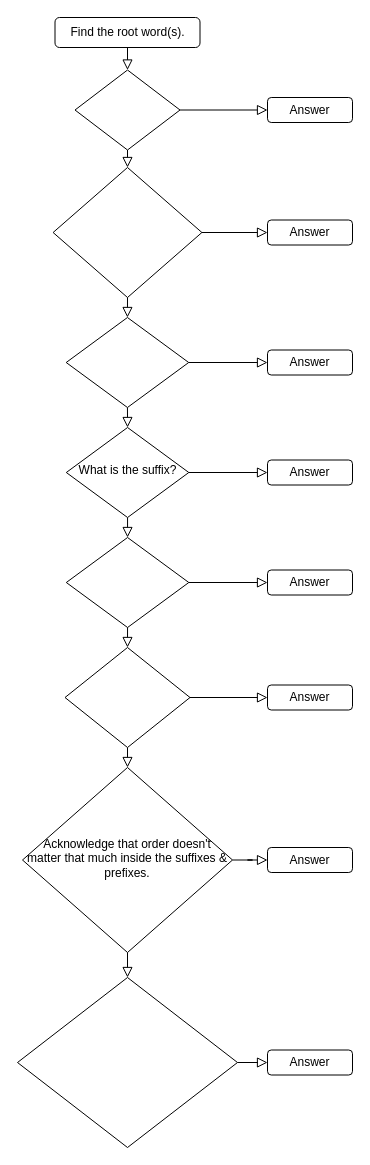
Image size: 370x1165. Some labels were removed from this diagram. Here are the shapes that lost their labels. From the top down, the centre of each, then its label:
At point 127,109: "How does it behave?".
At point 127,232: "What is the historical relation or etymology?".
At point 127,362: "What is the prefix?".
At point 127,582: "What are the particles, if any?".
At point 127,697: "What are the potential postpositions?".
At point 127,1062: "Acknowledge that postpositions are used instead of prepositions.".
